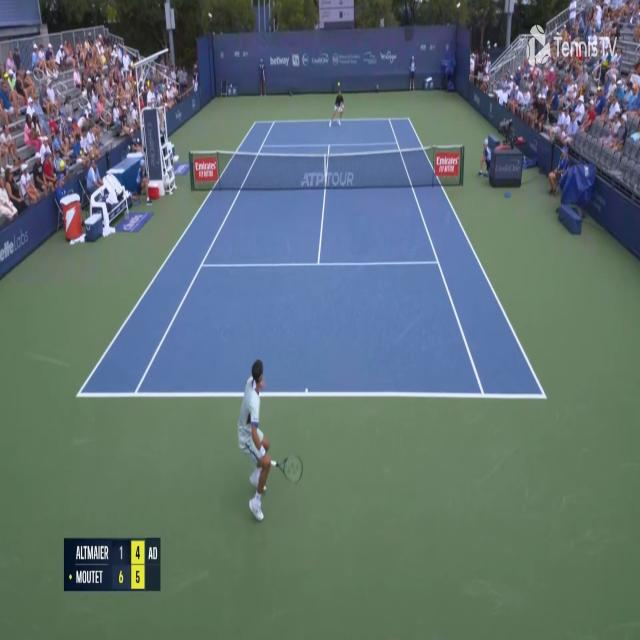tennis-player: (236, 354, 305, 528), (327, 77, 346, 130)
